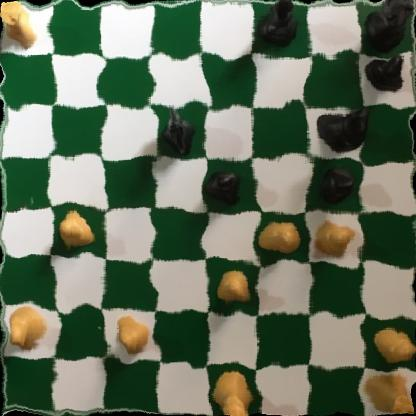black-bishop: (253, 0, 294, 52)
black-king: (315, 102, 376, 160)
black-knight: (153, 95, 201, 157)
black-pawn: (365, 49, 408, 96), (316, 170, 360, 203), (205, 167, 242, 204)
black-rook: (358, 0, 411, 49)
white-king: (209, 373, 254, 416)
white-pawn: (211, 260, 255, 313), (3, 303, 48, 350), (54, 209, 100, 252), (369, 324, 416, 364), (310, 215, 352, 259), (261, 216, 302, 260), (111, 316, 158, 354)
white-rook: (366, 366, 416, 416), (0, 0, 43, 48)
